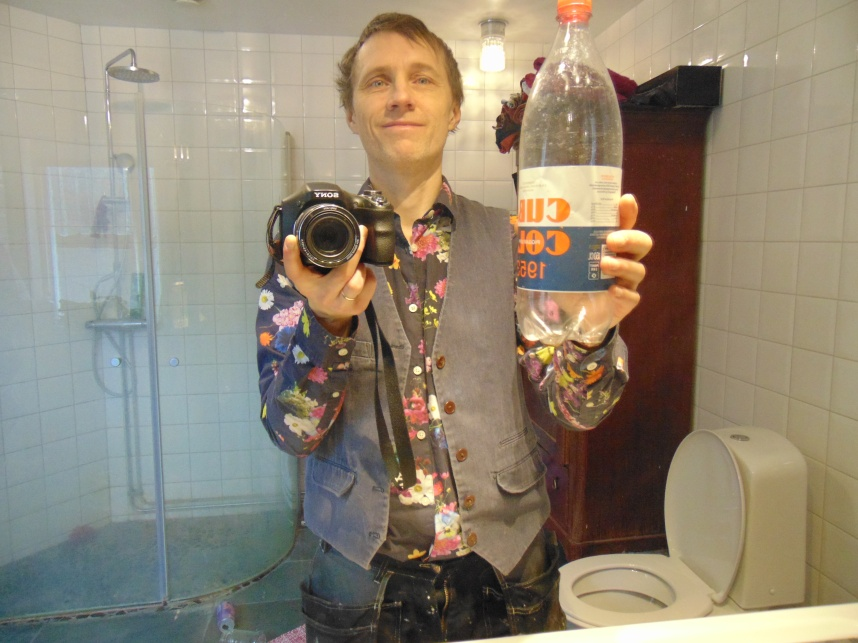plastic_bottle: (512, 1, 623, 347)
